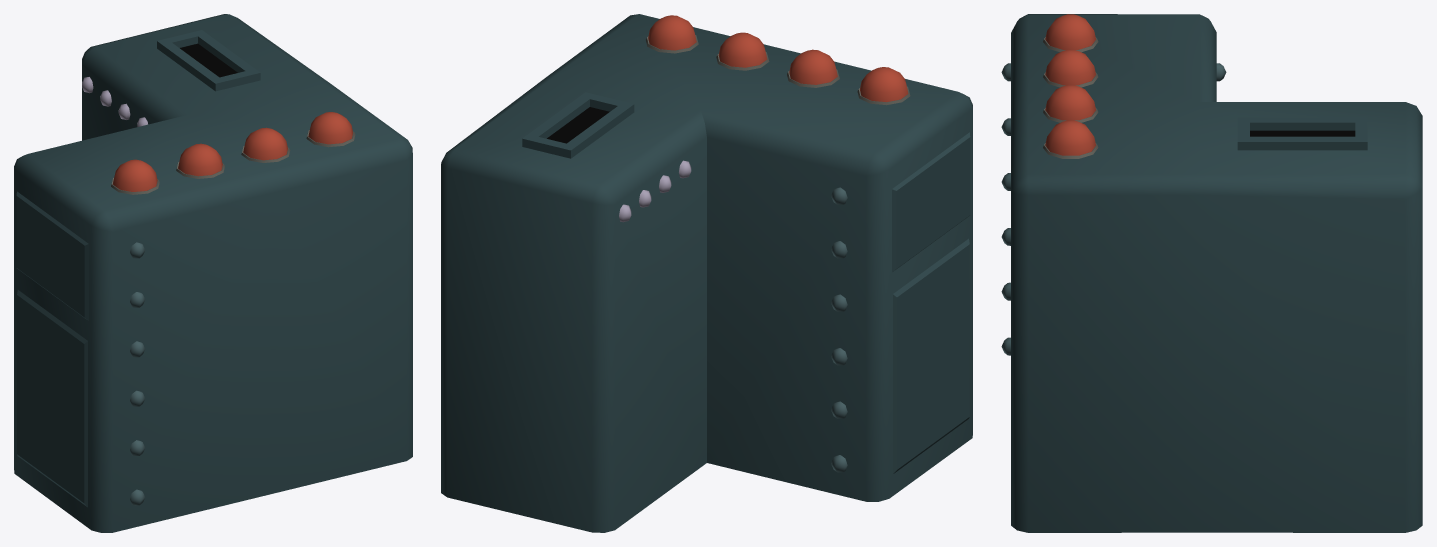
The model's file is OT_151_gambler_control_panel.glb.
3 views of the same model, side by side, from view 1: azimuth 30°, elevation 25°; view 2: azimuth 150°, elevation 25°; view 3: azimuth 270°, elevation 25° (orthographic). The views are drawn at different scales.
Visible parts, largest first — view 1: gambler_control_panel, gambler_control_panel_lids, lights_red, lever_slot, screws, lights_white; view 2: gambler_control_panel, gambler_control_panel_lids, lights_red, lever_slot, screws, lights_white; view 3: gambler_control_panel, lights_red, lever_slot, screws.
Boxes of the visible parts, x1,y1,x2,y2 form: gambler_control_panel: [14, 14, 412, 532]; gambler_control_panel_lids: [16, 191, 88, 507]; lights_red: [111, 112, 355, 194]; lever_slot: [157, 30, 260, 91]; screws: [130, 242, 145, 505]; lights_white: [82, 77, 147, 126]; gambler_control_panel: [441, 14, 972, 532]; gambler_control_panel_lids: [892, 132, 970, 473]; lights_red: [646, 15, 910, 105]; lever_slot: [522, 92, 634, 158]; screws: [831, 187, 847, 472]; lights_white: [619, 160, 691, 222]; gambler_control_panel: [1011, 14, 1422, 532]; lights_red: [1043, 14, 1098, 158]; lever_slot: [1237, 117, 1367, 150]; screws: [1001, 63, 1226, 355].
Bounding box in the file's own units: 1.51 × 1.52 × 1.54.
